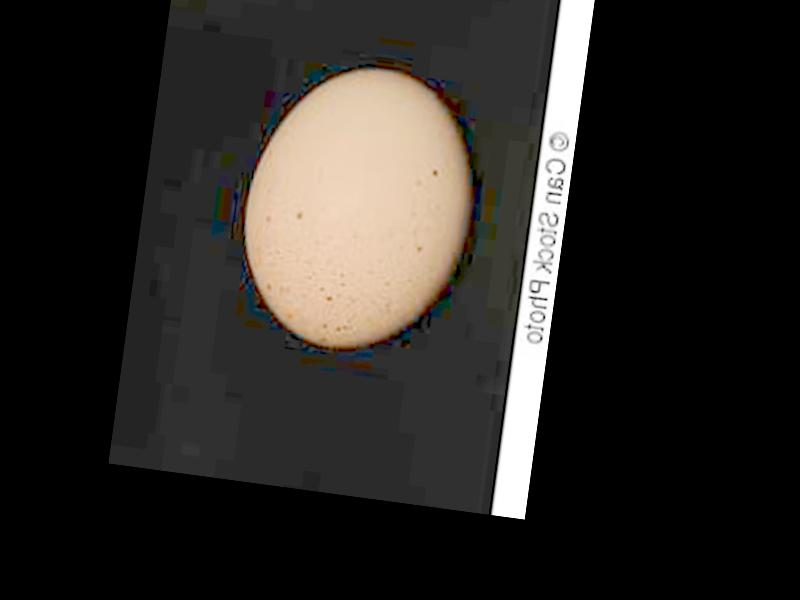Eggs: (231, 54, 487, 360)
